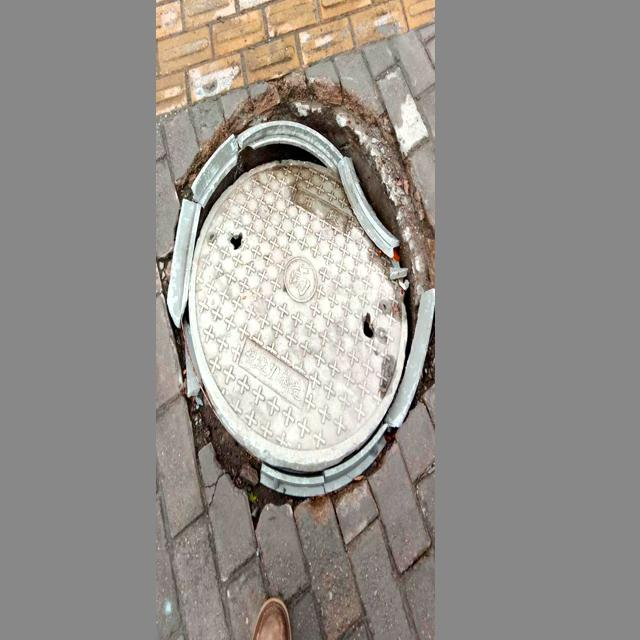circle: (160, 78, 432, 519)
